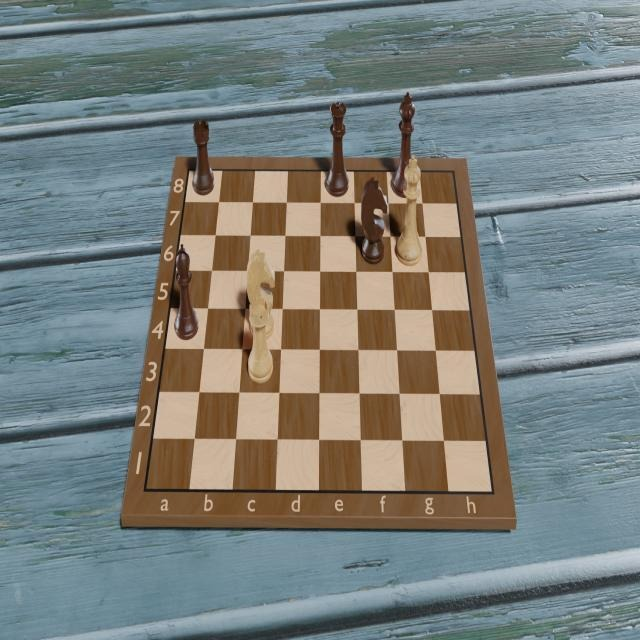black-bishop: (172, 244, 204, 343)
black-king: (389, 92, 419, 202)
black-knight: (356, 173, 391, 269)
black-queen: (324, 98, 351, 204)
black-rook: (190, 116, 216, 200)
white-king: (395, 153, 425, 267)
white-knight: (243, 244, 275, 343)
white-queen: (244, 276, 276, 392)
